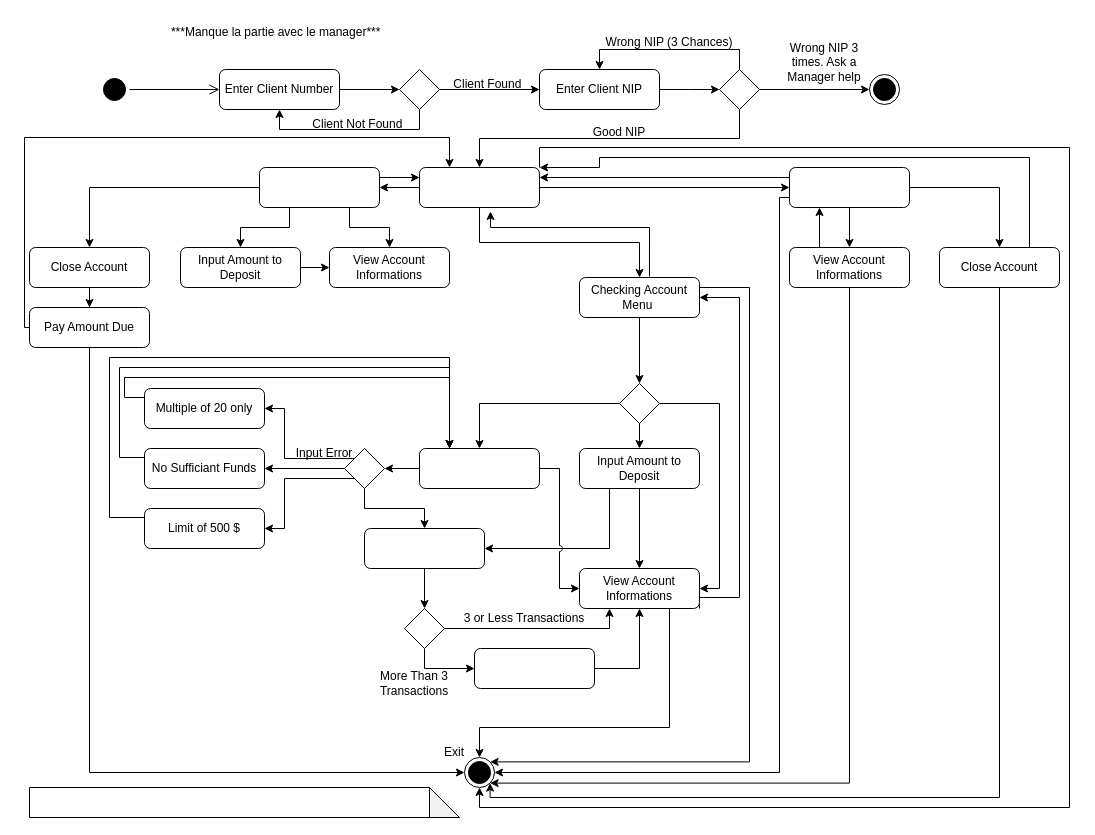
This 1095x835 diagram has some shape labels left out. Here are the shapes that lost their labels. From the top down, the centre of each, then its label:
the point at 319,187: Credit Account Menu
the point at 479,187: Account Type Menu
the point at 849,187: Saving Account Menu
the point at 479,468: Input Amount to Withdraw
the point at 424,548: Transaction made (transaction +1)
the point at 534,668: Extra-Fees
the point at 244,802: Activity Diagram Made by: Miguel Beauchemin and Dominic Potvin
